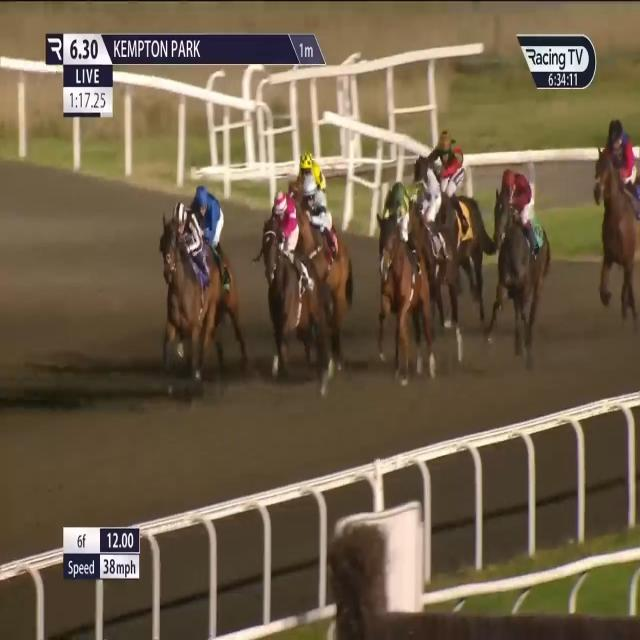horses-racing: (491, 164, 560, 354), (261, 184, 328, 370), (161, 198, 225, 390), (428, 129, 493, 311), (187, 175, 247, 355), (380, 179, 434, 377), (590, 116, 640, 323), (300, 174, 350, 351), (409, 156, 464, 312), (291, 148, 328, 216)
